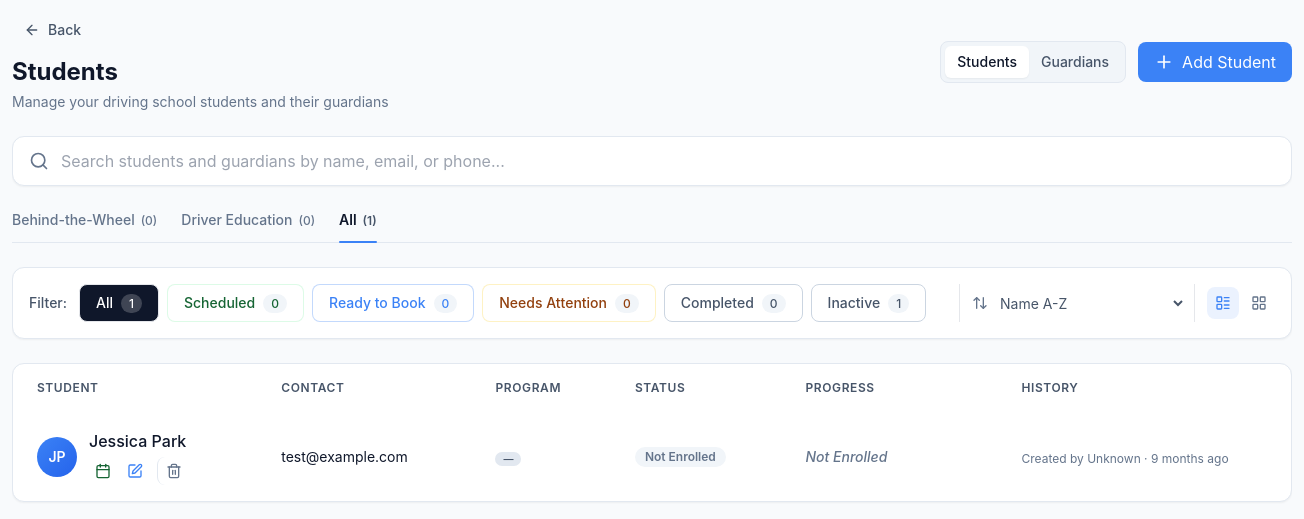
Test case: Students page - unified search › shows mixed typed results while on the Students tab, including a guardian match
Expected: the text "Jessica Park" is shown, left=89, top=429, right=186, bottom=453
Type "Smith" into the field with placeholder "Search students and guardians by name, email, or phone..." at (668, 161), box left=61, top=149, right=1275, bottom=173
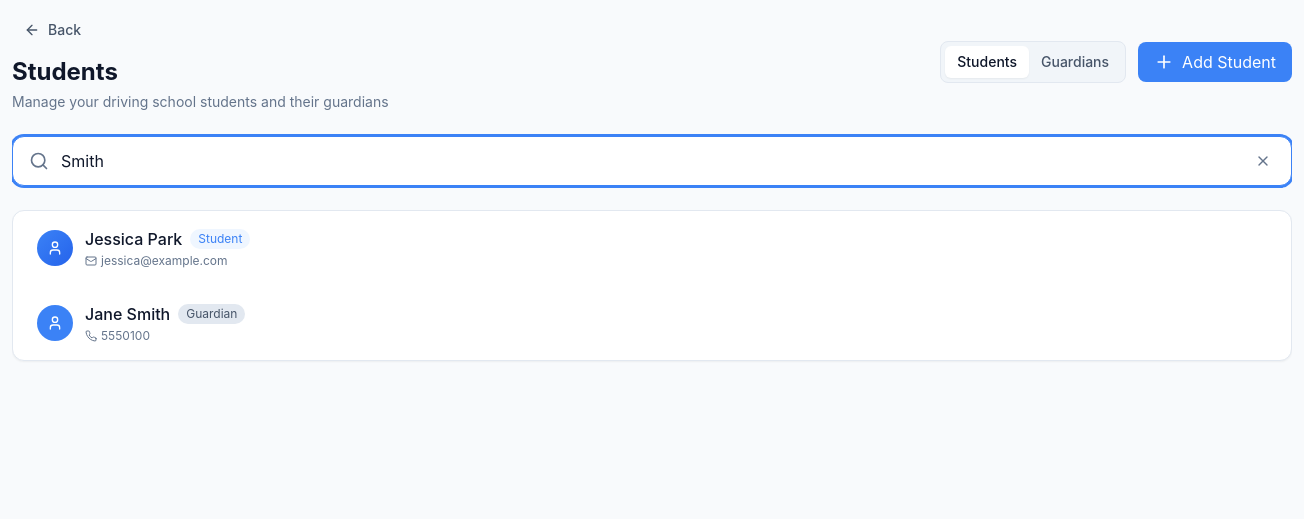
Expected: the text "Student" is shown, left=190, top=229, right=250, bottom=249
Now the text "Jane Smith" is shown, box left=85, top=302, right=170, bottom=326
Now the text "Guardian" is shown, box left=178, top=304, right=246, bottom=324
